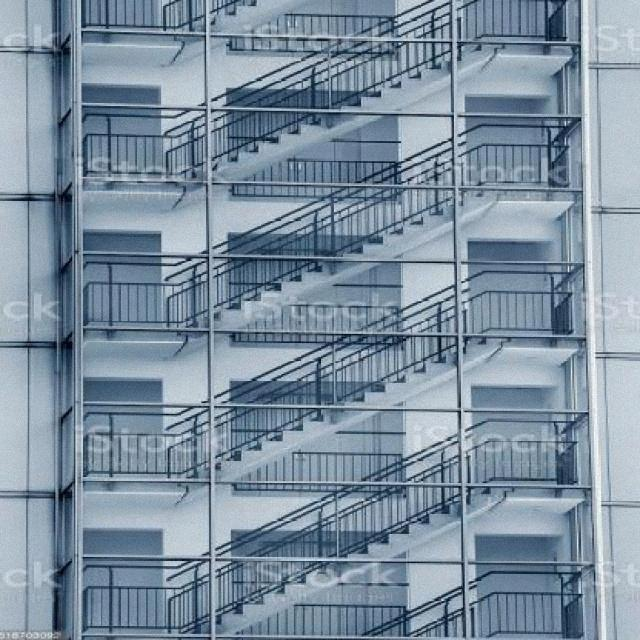stair: (76, 262, 570, 500)
